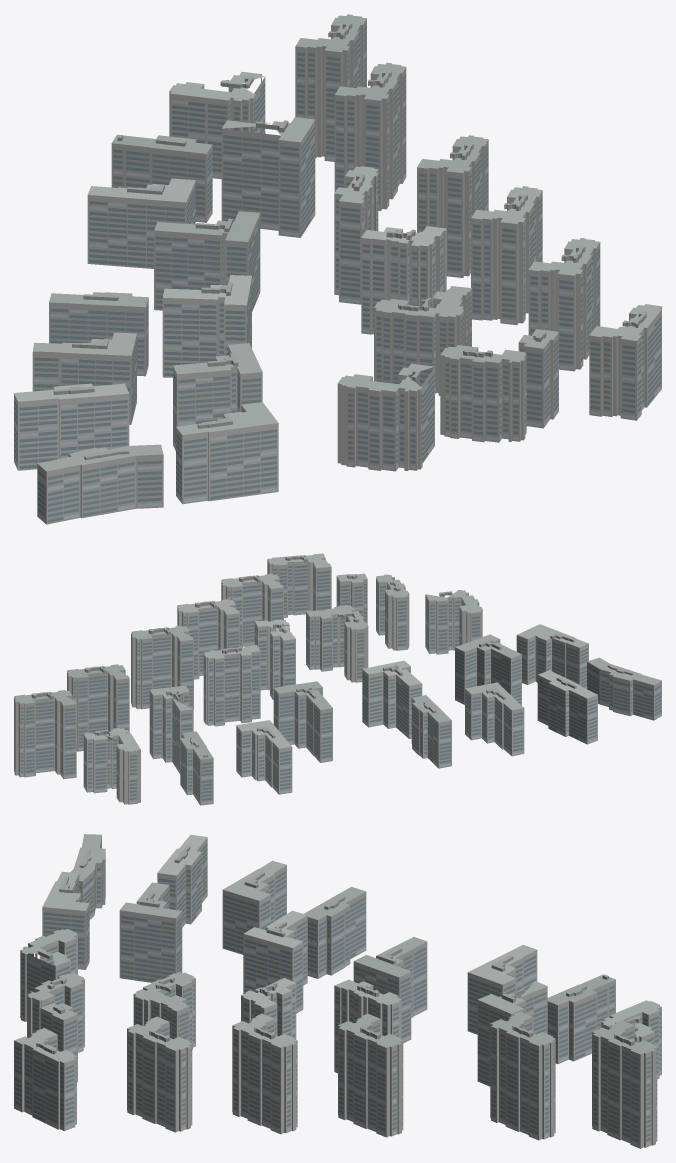
Rendered from apt-a10026682.glb.
The picture shows the model from 3 angles, top to bottom: view 1: azimuth 30°, elevation 25°; view 2: azimuth 150°, elevation 25°; view 3: azimuth 270°, elevation 25°; orthographic projection. The views are drawn at different scales.
Parts seen in each view (by area): view 1: apt-a10026682; view 2: apt-a10026682; view 3: apt-a10026682.
Part boxes in pixels (x1,y1,x2,y2): apt-a10026682: [14, 14, 661, 524]; apt-a10026682: [14, 553, 661, 805]; apt-a10026682: [14, 834, 661, 1148].
Size of the model in its own units: 365 by 62 by 371.
